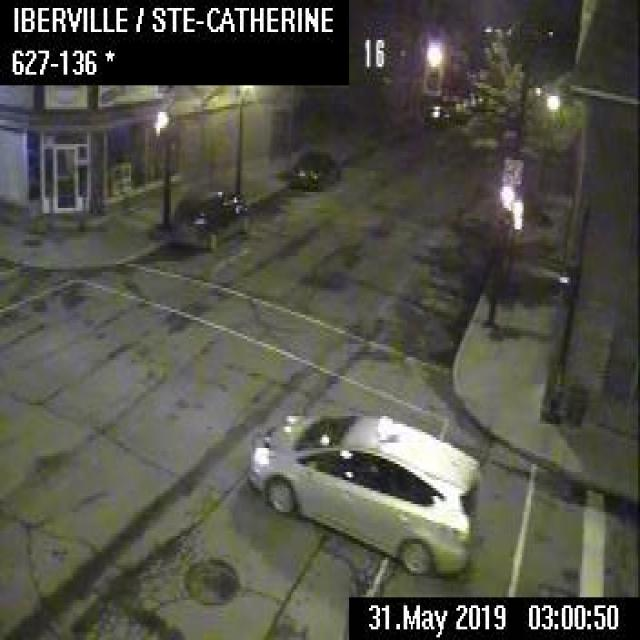vehicle: (247, 405, 483, 579), (169, 182, 251, 254), (291, 147, 341, 192), (420, 99, 455, 125)
